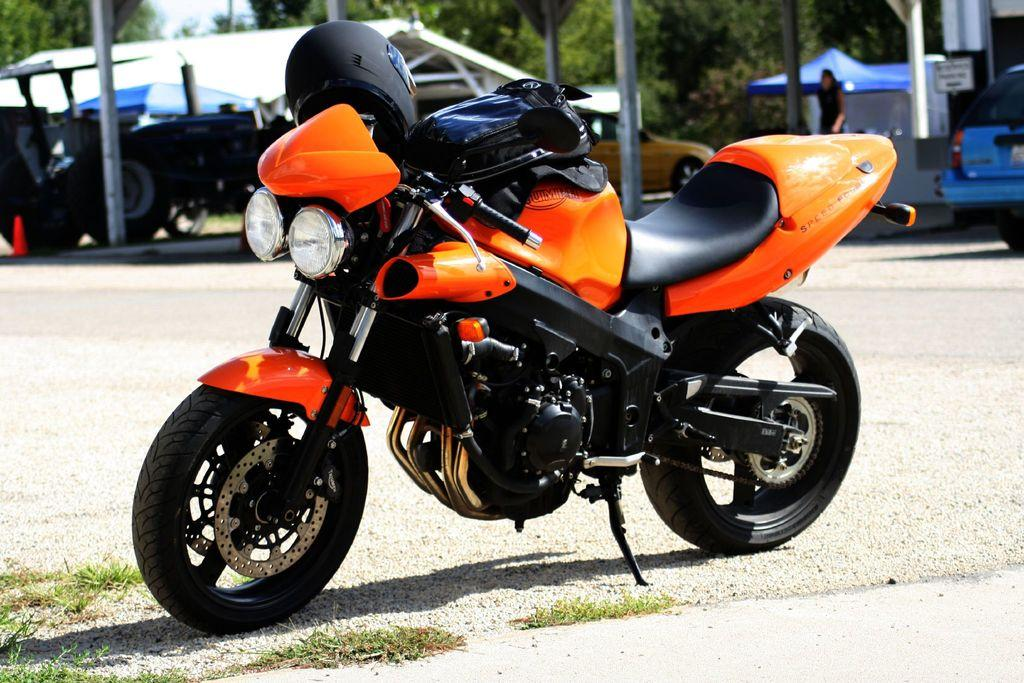helmet: (285, 20, 417, 148)
